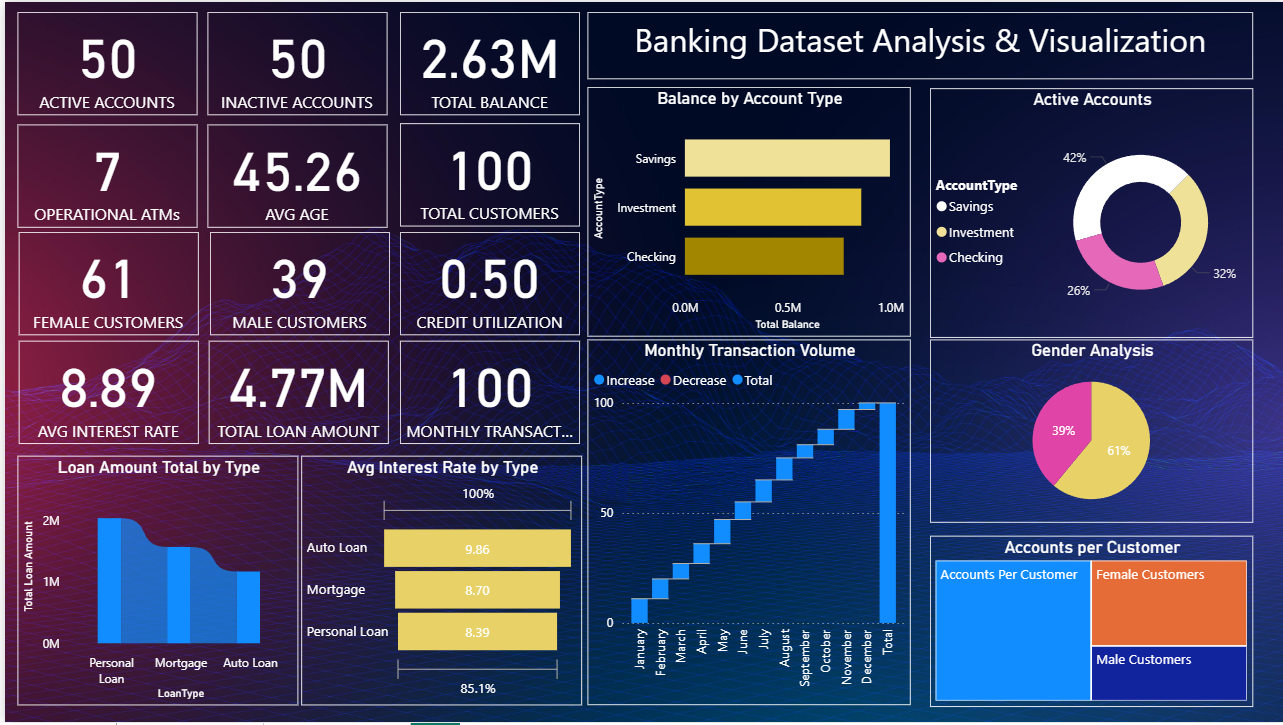

This screenshot's page, from the dashboard's own definition file:
{"tool":"powerbi","page":{"name":"Visualization 1","canvas":[1280,720],"ordinal":0},"visuals":[{"type":"textbox","box":[582.7,9.7,666,67.6],"z":0},{"type":"card","fields":{"Values":["Accounts.Total Balance"]},"box":[395,10,180,103.3],"z":1000},{"type":"card","fields":{"Values":["Accounts.Inactive Accounts"]},"box":[203.1,9.6,179.8,102.9],"z":2000},{"type":"card","fields":{"Values":["Accounts.Active Accounts"]},"box":[12.3,9.6,179.8,102.9],"z":3000},{"type":"card","fields":{"Values":["ATMs.ATMs Operational"]},"box":[12.3,122.1,179.8,102.9],"z":4000},{"type":"card","fields":{"Values":["Customers.Average Age"]},"box":[203.1,122.1,179.8,102.9],"z":5000},{"type":"card","fields":{"Values":["Customers.Customer Count"]},"box":[395,121.7,180,103.3],"z":6000},{"type":"card","fields":{"Values":["Customers.Female Customers"]},"box":[13.7,230.5,179.8,102.9],"z":7000},{"type":"card","fields":{"Values":["Customers.Male Customers"]},"box":[204.5,230.5,179.8,102.9],"z":8000},{"type":"card","fields":{"Values":["CreditCards.Credit Utilization"]},"box":[395,230,180,103.3],"z":9000},{"type":"card","fields":{"Values":["Loans.Average Interest Rate"]},"box":[13.3,338.3,180,103.3],"z":10000},{"type":"card","fields":{"Values":["Loans.Total Loan Amount"]},"box":[203.3,338.3,180,103.3],"z":11000},{"type":"card","fields":{"Values":["Transactions.Monthly Transaction Volume"]},"box":[395,338.3,180,103.3],"z":12000},{"type":"barChart","title":"Balance by Account Type","fields":{"Y":["Accounts.Total Balance"],"Category":["Accounts.AccountType"]},"box":[582.7,84.5,323.3,249.7],"z":13000},{"type":"donutChart","title":"Active Accounts","fields":{"Y":["Accounts.Active Accounts"],"Category":["Accounts.AccountType"]},"box":[925.3,85.7,323.3,249.7],"z":14000},{"type":"ribbonChart","title":"Loan Amount Total by Type","fields":{"Y":["Loans.Total Loan Amount"],"Category":["Loans.LoanType"]},"box":[12.1,453.6,281.1,249.7],"z":15000},{"type":"funnel","title":"Avg Interest Rate by Type","fields":{"Category":["Loans.LoanType"],"Y":["Loans.Average Interest Rate"]},"box":[296.8,453.6,281.1,249.7],"z":16000},{"type":"waterfallChart","title":"Monthly Transaction Volume","fields":{"Y":["Transactions.Monthly Transaction Volume"],"Category":["Date.Date.Variation.Date Hierarchy.Month"]},"box":[582.7,337.8,323.3,365.6],"z":17000},{"type":"pieChart","title":"Gender Analysis","fields":{"Y":["Customers.Customer Count"],"Category":["Customers.Gender"]},"box":[925.3,337.8,323.3,183.4],"z":18000},{"type":"treemap","title":"Accounts per Customer","fields":{"Values":["Accounts.Accounts Per Customer","Customers.Male Customers","Customers.Female Customers"]},"box":[925.3,533.2,323.3,171.3],"z":19000}]}

Visuals, with their boxes in screenshot pixels (x1, y1, x2, y2), scaled from the page's 1280x720 canvas onto the 1283x725 screenshot:
textbox: [left=584, top=10, right=1252, bottom=78]
card - Accounts.Total Balance: [left=396, top=10, right=576, bottom=114]
card - Accounts.Inactive Accounts: [left=204, top=10, right=384, bottom=113]
card - Accounts.Active Accounts: [left=12, top=10, right=193, bottom=113]
card - ATMs.ATMs Operational: [left=12, top=123, right=193, bottom=227]
card - Customers.Average Age: [left=204, top=123, right=384, bottom=227]
card - Customers.Customer Count: [left=396, top=123, right=576, bottom=227]
card - Customers.Female Customers: [left=14, top=232, right=194, bottom=336]
card - Customers.Male Customers: [left=205, top=232, right=385, bottom=336]
card - CreditCards.Credit Utilization: [left=396, top=232, right=576, bottom=336]
card - Loans.Average Interest Rate: [left=13, top=341, right=194, bottom=445]
card - Loans.Total Loan Amount: [left=204, top=341, right=384, bottom=445]
card - Transactions.Monthly Transaction Volume: [left=396, top=341, right=576, bottom=445]
"Balance by Account Type" barChart: [left=584, top=85, right=908, bottom=337]
"Active Accounts" donutChart: [left=927, top=86, right=1252, bottom=338]
"Loan Amount Total by Type" ribbonChart: [left=12, top=457, right=294, bottom=708]
"Avg Interest Rate by Type" funnel: [left=297, top=457, right=579, bottom=708]
"Monthly Transaction Volume" waterfallChart: [left=584, top=340, right=908, bottom=708]
"Gender Analysis" pieChart: [left=927, top=340, right=1252, bottom=525]
"Accounts per Customer" treemap: [left=927, top=537, right=1252, bottom=709]
